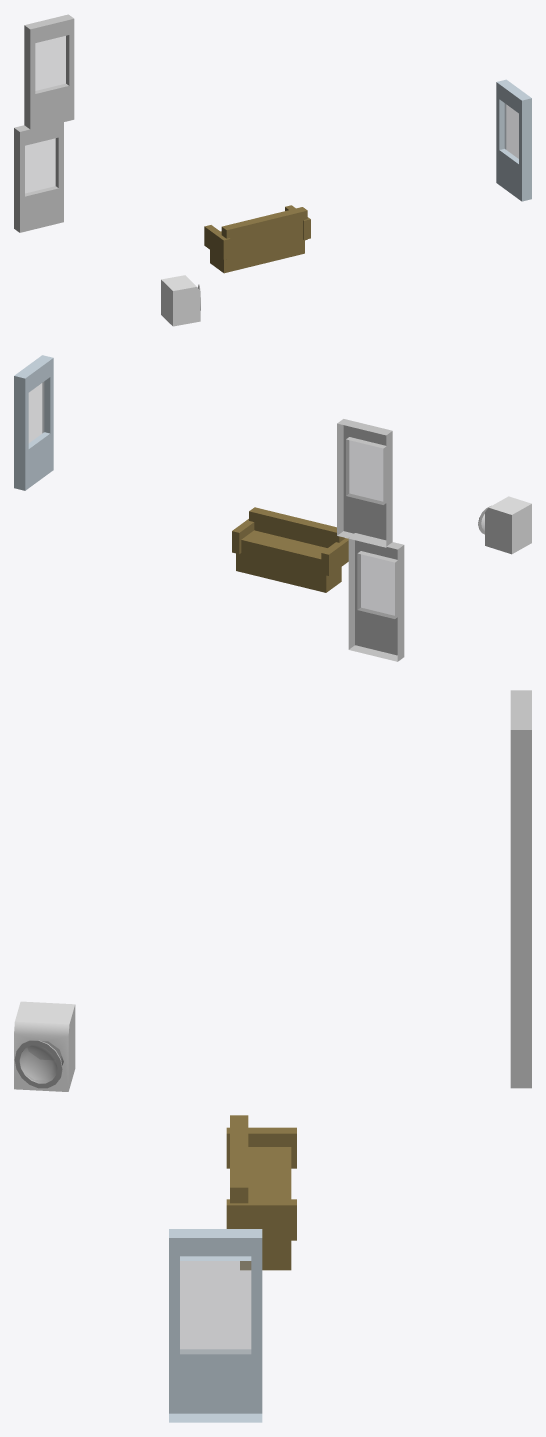
Rendered from house_change_2.fbx.
3 renders of one model, top to bottom at view 1: azimuth 30°, elevation 25°; view 2: azimuth 150°, elevation 25°; view 3: azimuth 270°, elevation 25°, orthographic. The views are drawn at different scales.
Visible parts, largest first — view 1: Window_block_2, Window_block_1, Window_block, Cube_1, Washing_machine, Cube, Cube_3; view 2: Window_block_1, Window_block_2, Window_block, Cube, Washing_machine, Cube_1, Cube_3, Cube_2; view 3: Window_block, Window_block_2, Washing_machine, Window_block_1, Cube, Cube_2, Cube_1, Cube_3, Window.
Part boxes in pixels (x1,y1,x2,y2): Window_block_2: [24, 14, 74, 130]; Window_block_1: [14, 122, 63, 232]; Window_block: [496, 79, 531, 201]; Cube_1: [221, 207, 307, 259]; Washing_machine: [161, 275, 200, 326]; Cube: [210, 231, 304, 273]; Cube_3: [204, 225, 230, 259]; Window_block_1: [348, 533, 404, 661]; Window_block_2: [337, 419, 392, 547]; Window_block: [14, 355, 53, 490]; Cube: [236, 530, 341, 592]; Washing_machine: [485, 496, 531, 554]; Cube_1: [249, 507, 344, 547]; Cube_3: [321, 538, 348, 575]; Cube_2: [232, 519, 254, 554]; Window_block: [169, 1229, 262, 1422]; Window_block_2: [510, 690, 531, 914]; Washing_machine: [14, 1001, 75, 1091]; Window_block_1: [510, 914, 531, 1088]; Cube: [240, 1147, 291, 1270]; Cube_2: [226, 1199, 296, 1240]; Cube_1: [230, 1115, 248, 1203]; Cube_3: [226, 1127, 296, 1168]; Window: [20, 1045, 57, 1083].
Bounding box in the file's own units: 1302 × 651 × 763.
